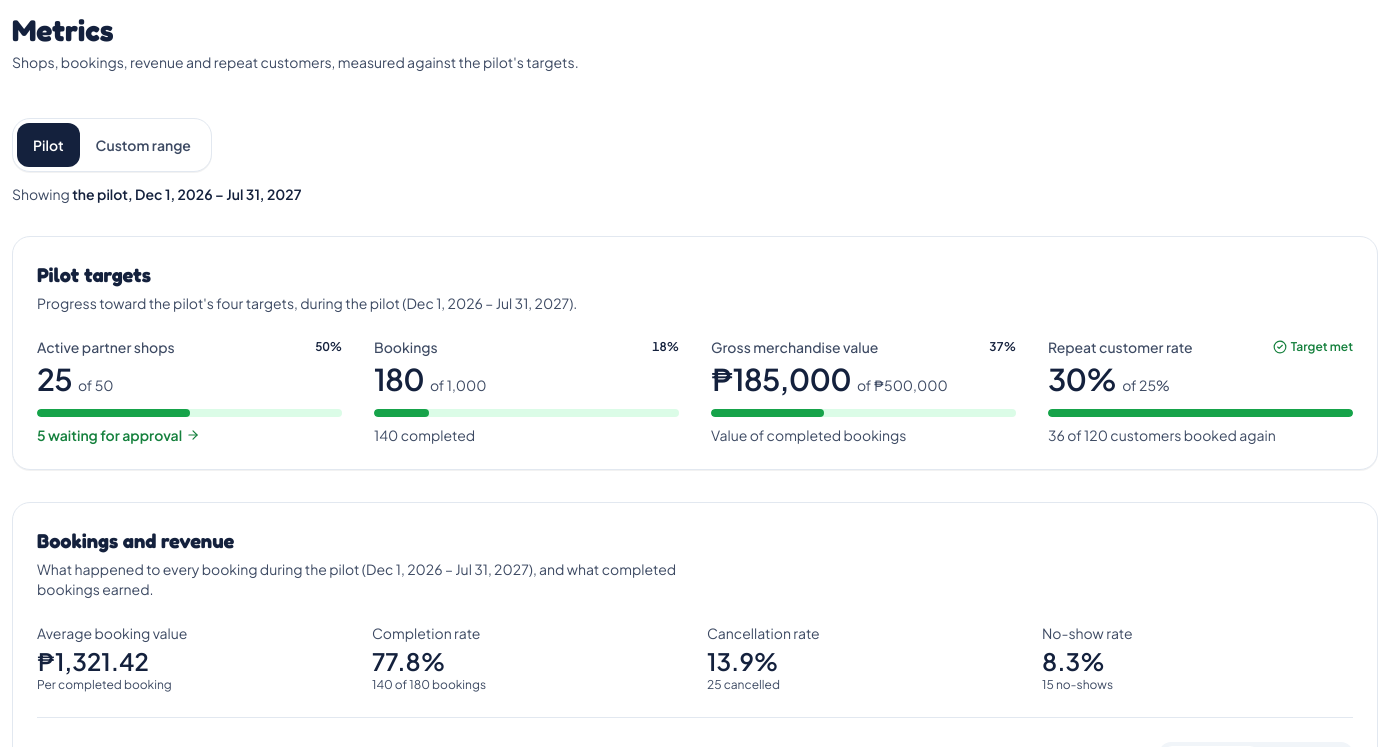
Analytics UI Components › MetricsDashboard › shows an error under the end date when it comes before the start
Click the button "Custom range".
click(143, 145)  # box [80,123,207,167]
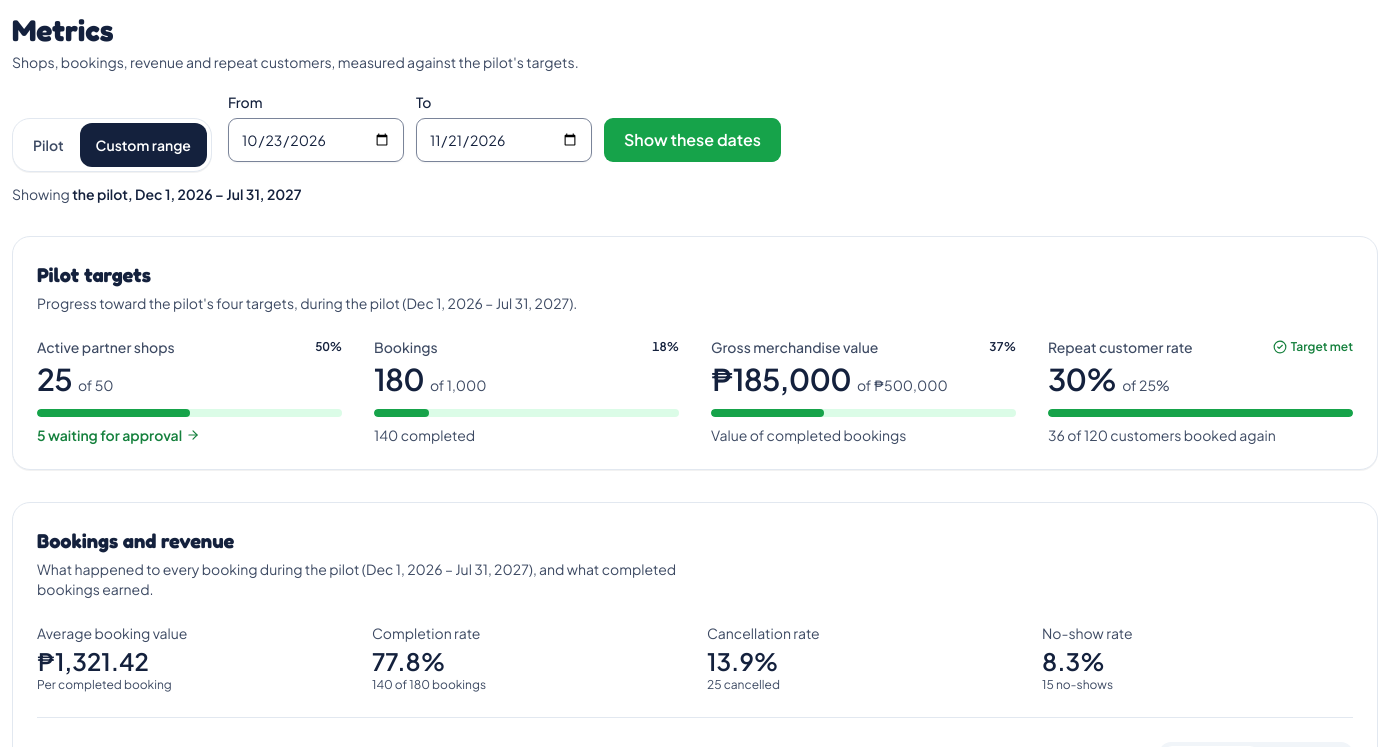
Type "2026-10-01" into the date field labelled "To".
click(504, 140); type("2026-10-01")  # box [416,118,592,162]
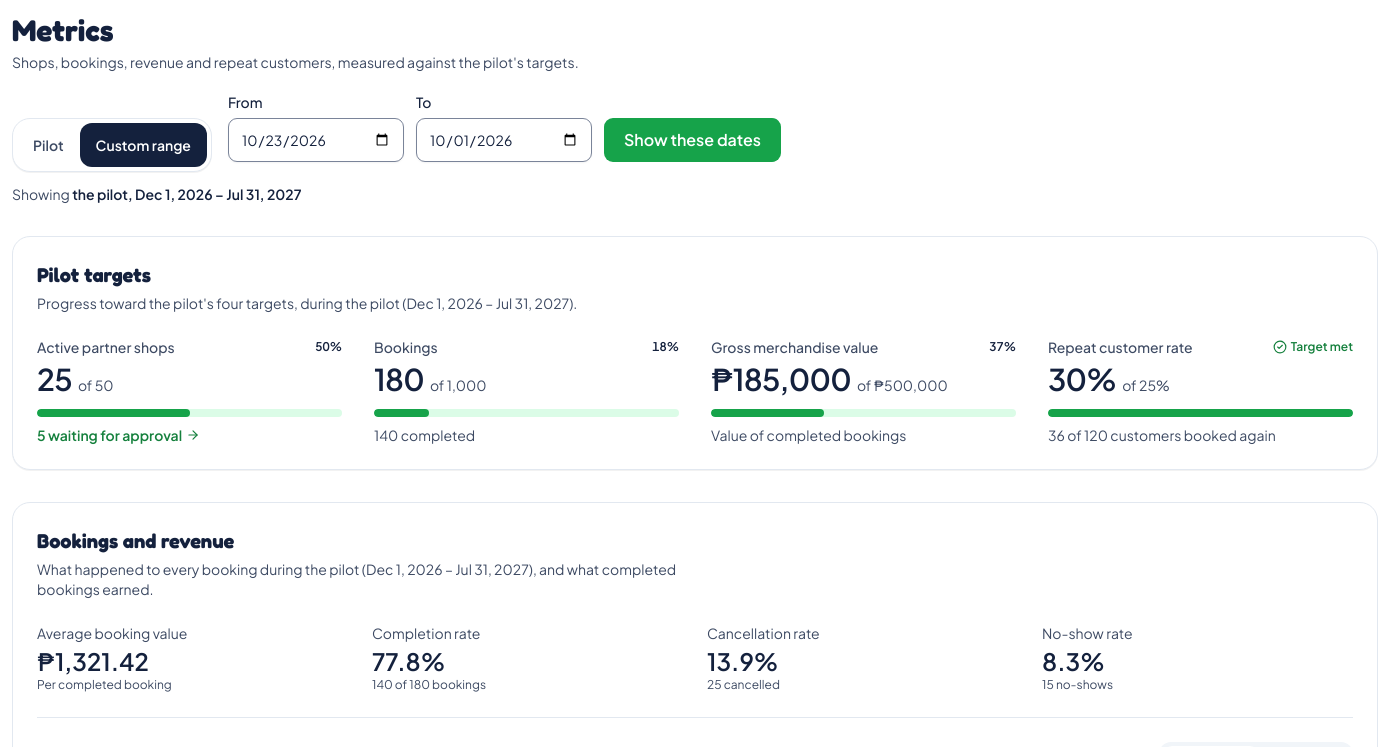
Click the button "Show these dates".
click(692, 140)  # box [604,118,781,162]
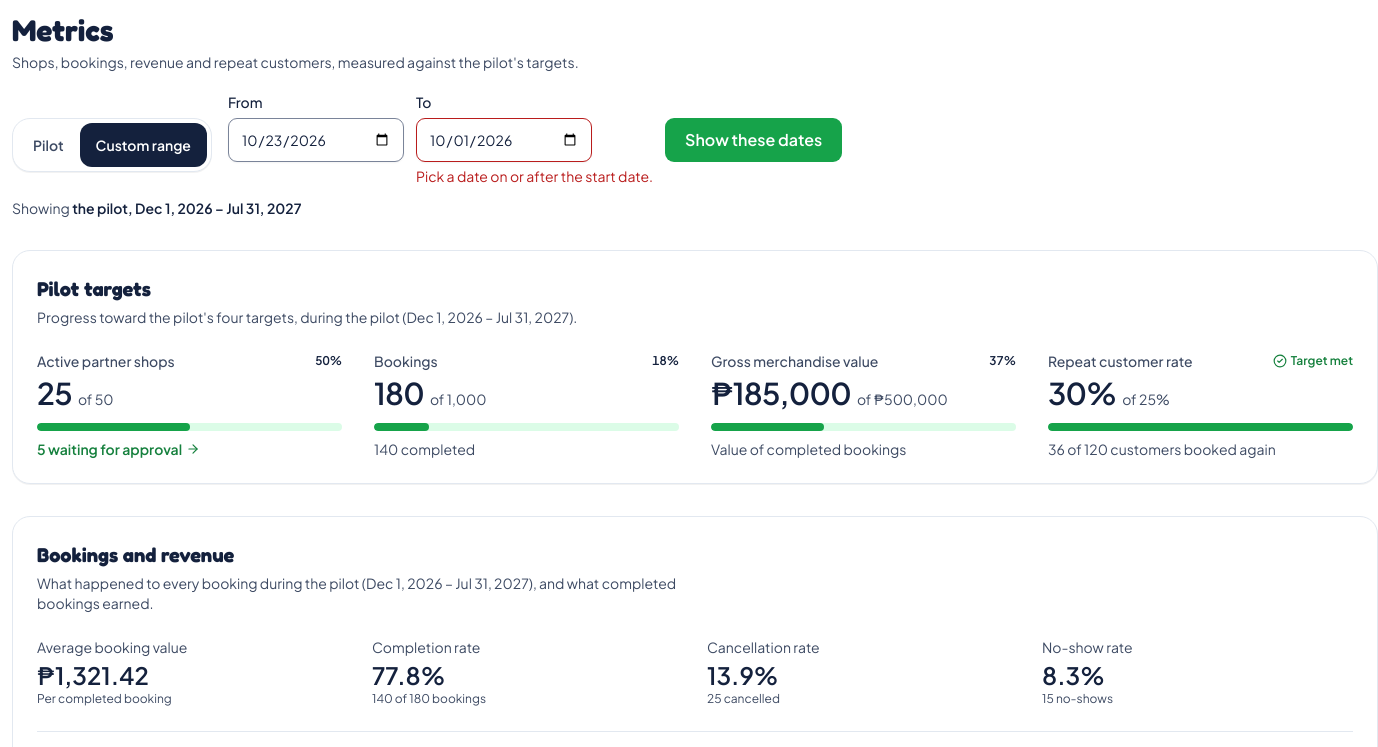
Expected: the text "Pick a date on or after the start date." is shown, [416,166,653,186]
